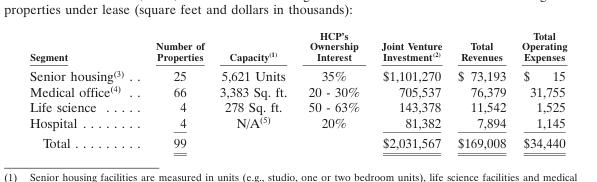table: (28, 29, 566, 150)
table column: (28, 29, 139, 150), (211, 29, 296, 150), (369, 29, 449, 150), (296, 29, 369, 150), (139, 29, 211, 150), (449, 29, 513, 150), (513, 29, 566, 150)
table column header: (28, 29, 566, 64)
table row: (28, 29, 566, 64), (28, 64, 566, 83), (28, 114, 566, 132), (28, 132, 566, 150), (28, 98, 566, 114), (28, 83, 566, 98)
